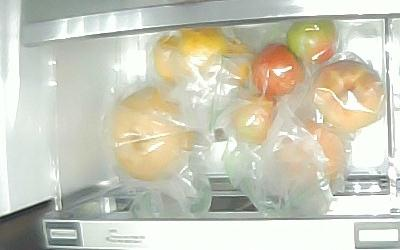peach_vinyl: (311, 60, 383, 130), (278, 121, 343, 186)
pear_vinyl: (111, 85, 192, 181)
tangerine_vinyl: (180, 26, 226, 67), (154, 34, 189, 82)
tomato_vinyl: (250, 42, 304, 100), (231, 92, 277, 145), (286, 20, 338, 63)
